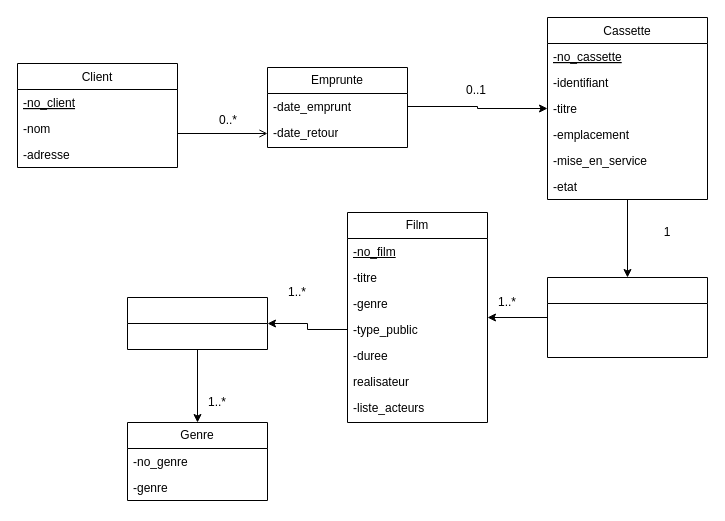
Some shapes in this 725 by 521 pixel diagram are drawn without their labels. The centre of each missing label's shape, as x and y in pixels:
Appartient: the point at 197,323
Contient: the point at 627,317
